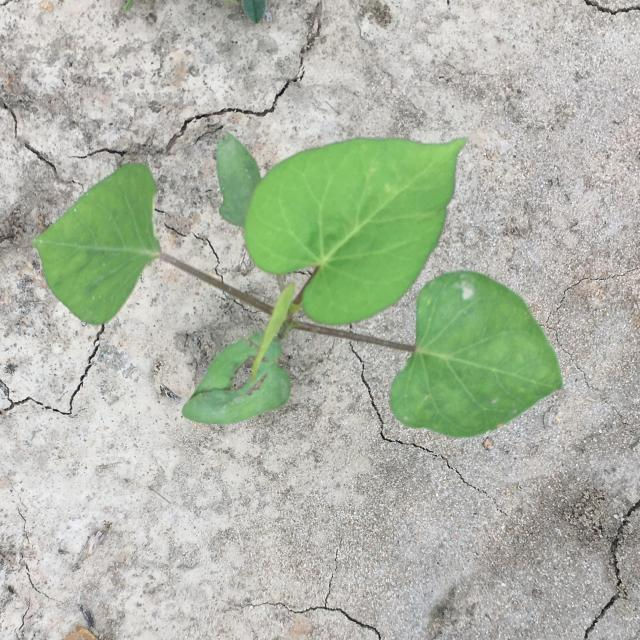MorningGlory: (31, 132, 564, 438)
